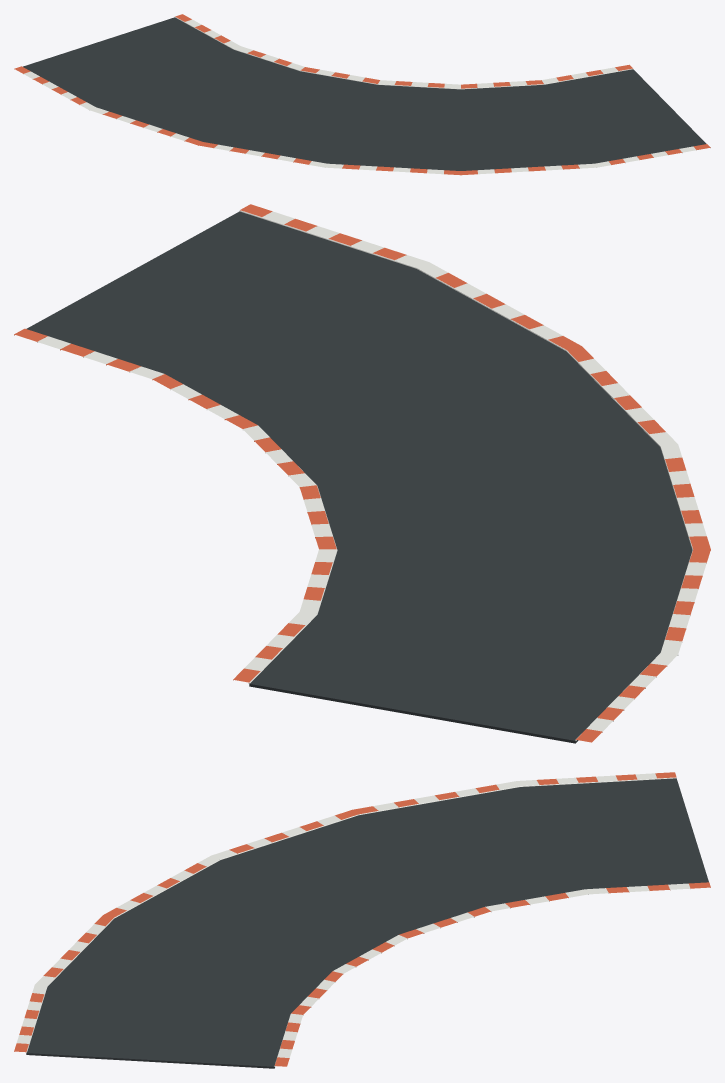
Rendered from corner90.glb.
3 views of the same model, one above another, from view 1: azimuth 30°, elevation 25°; view 2: azimuth 150°, elevation 25°; view 3: azimuth 270°, elevation 25° (orthographic). The views are drawn at different scales.
Visible parts, largest first — view 1: corner-90; view 2: corner-90; view 3: corner-90.
Boxes of the visible parts, x1,y1,x2,y2 form: corner-90: [14, 14, 710, 175]; corner-90: [14, 204, 710, 743]; corner-90: [14, 772, 710, 1068].
Bounding box in the file's own units: 33.41 × 0.1449 × 33.41.
